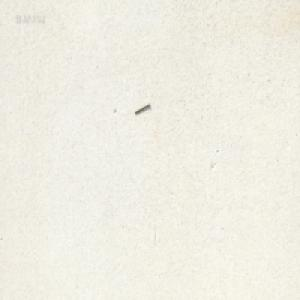Bolt: (133, 101, 150, 114)
